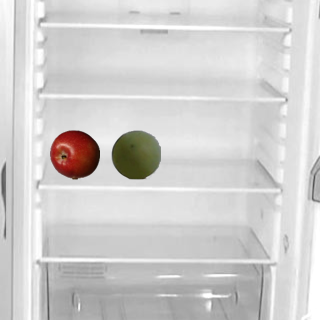Apple Braeburn: (49, 129, 99, 179)
Grape White 4: (110, 129, 160, 179)
